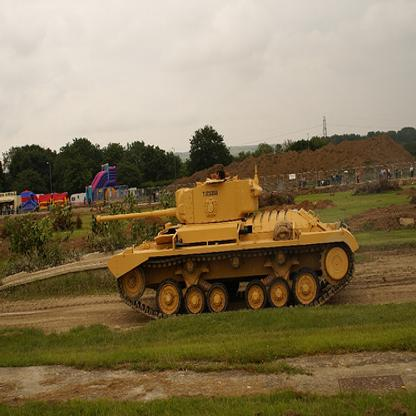Tank: (93, 182, 374, 323)
